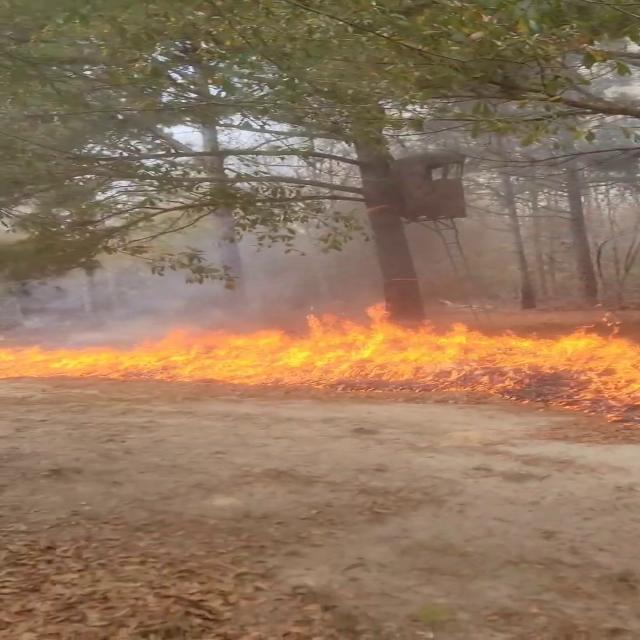Fire: (4, 300, 636, 384)
Smoke: (9, 208, 636, 326)
